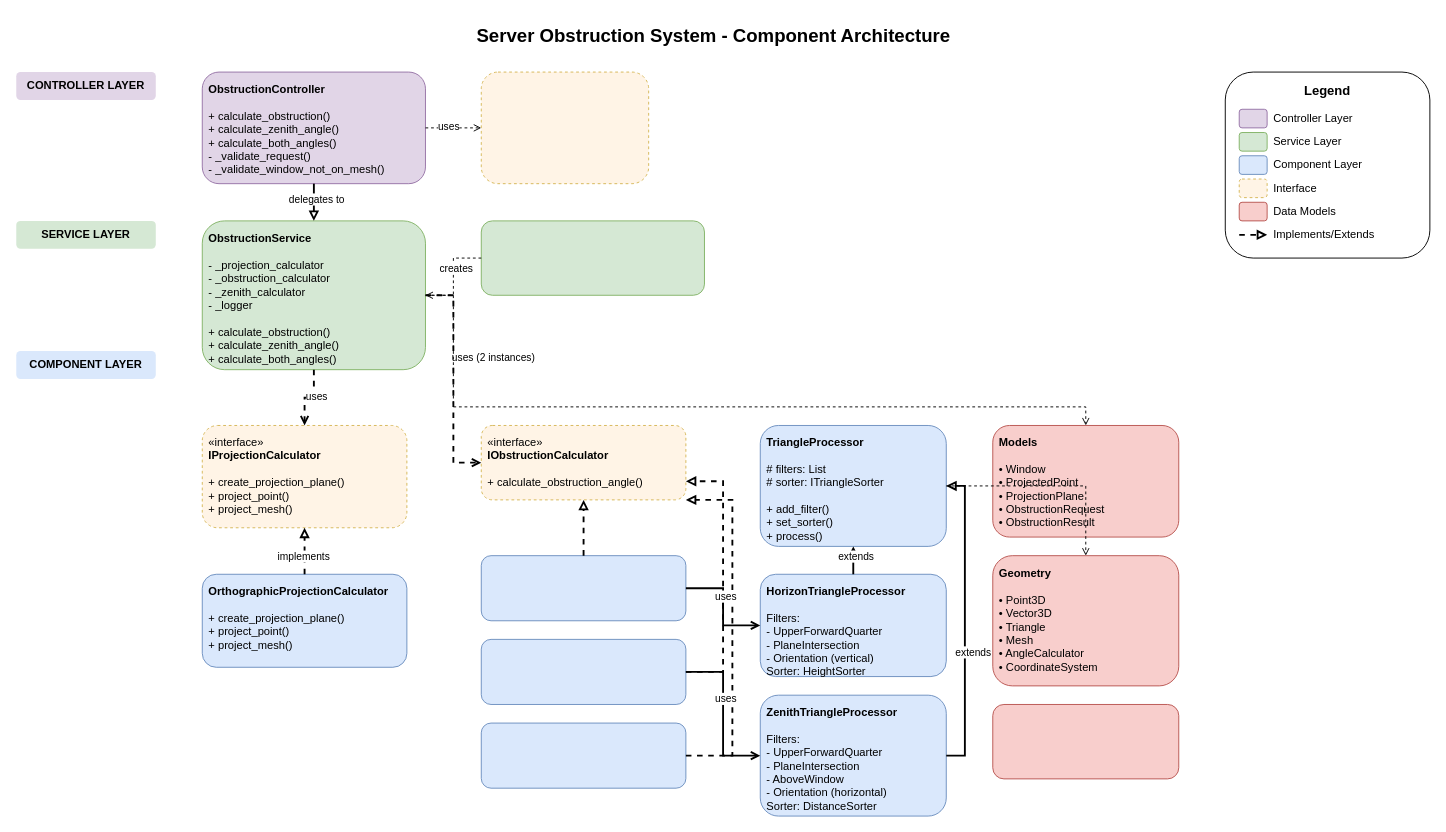
Image size: 1446x832. Some labels were removed from this diagram. Each missing label, with the centre of its shape:
"HorizonObstructionCalculator + calculate_obstruction_angle()" goes at (583,588).
"ObstructionServiceFactory + create_default_service() + create_custom_service()" goes at (592,257).
"Validators • GeometricValidator • PointOnTriangleError" goes at (1085,741).
"WorstCaseObstructionCalculator + calculate_obstruction_angle()" goes at (583,755).
"ZenithAngleCalculator + calculate_obstruction_angle()" goes at (583,671).
"«interface» ILogger + debug() + info() + warning() + error()" goes at (564,127).
